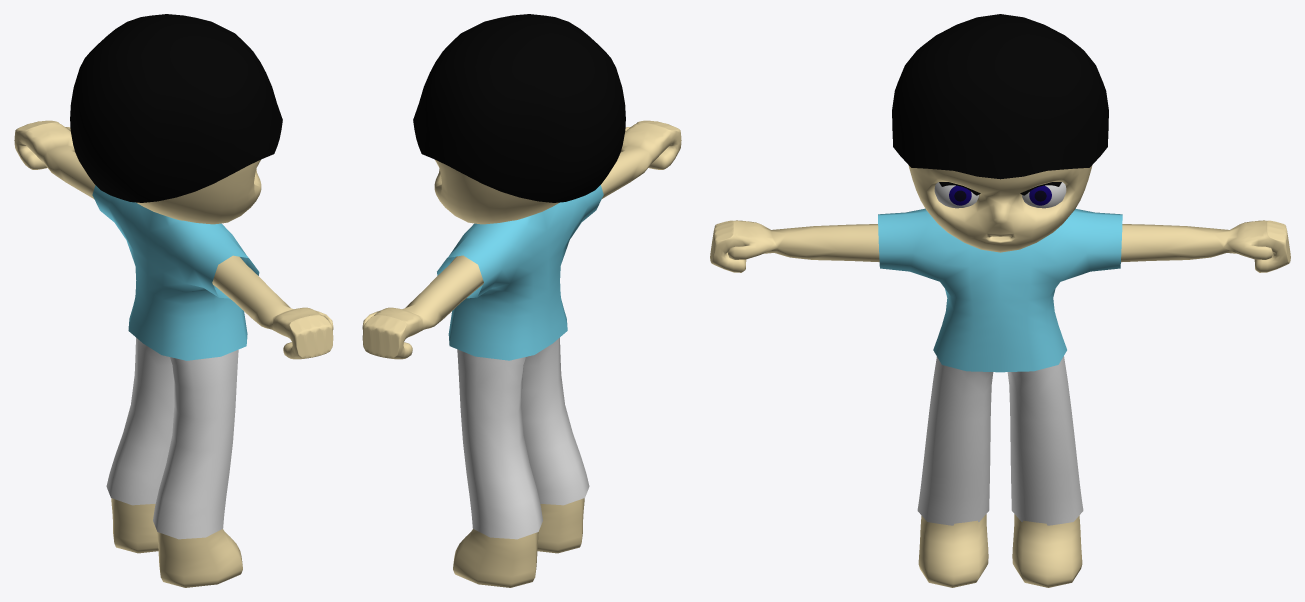
Rendered from NPC1.fbx.
The picture shows the model from 3 angles, left to right: view 1: azimuth 30°, elevation 25°; view 2: azimuth 150°, elevation 25°; view 3: azimuth 270°, elevation 25°; orthographic projection.
Visible parts, largest first — view 1: Head.001, Body.002, SHIRT, Body, Head; view 2: Head.001, Body.002, SHIRT, Body, Head; view 3: Head.001, SHIRT, Body, Body.002, Head, Eyeball.
Boxes of the visible parts, box(x1,y1,x2,y2) form: Head.001: box(70, 14, 282, 202); Body.002: box(106, 337, 238, 539); SHIRT: box(92, 185, 259, 360); Body: box(14, 120, 333, 587); Head: box(136, 160, 261, 224); Head.001: box(413, 14, 625, 202); Body.002: box(457, 338, 589, 539); SHIRT: box(437, 185, 603, 360); Body: box(362, 120, 681, 587); Head: box(434, 160, 559, 224); Head.001: box(892, 14, 1108, 179); SHIRT: box(878, 208, 1122, 372); Body: box(710, 220, 1290, 587); Body.002: box(917, 356, 1083, 525); Head: box(908, 165, 1092, 252); Eyeball: box(934, 182, 1066, 208).
Size of the model in its own units: 82.2 by 228 by 221.
